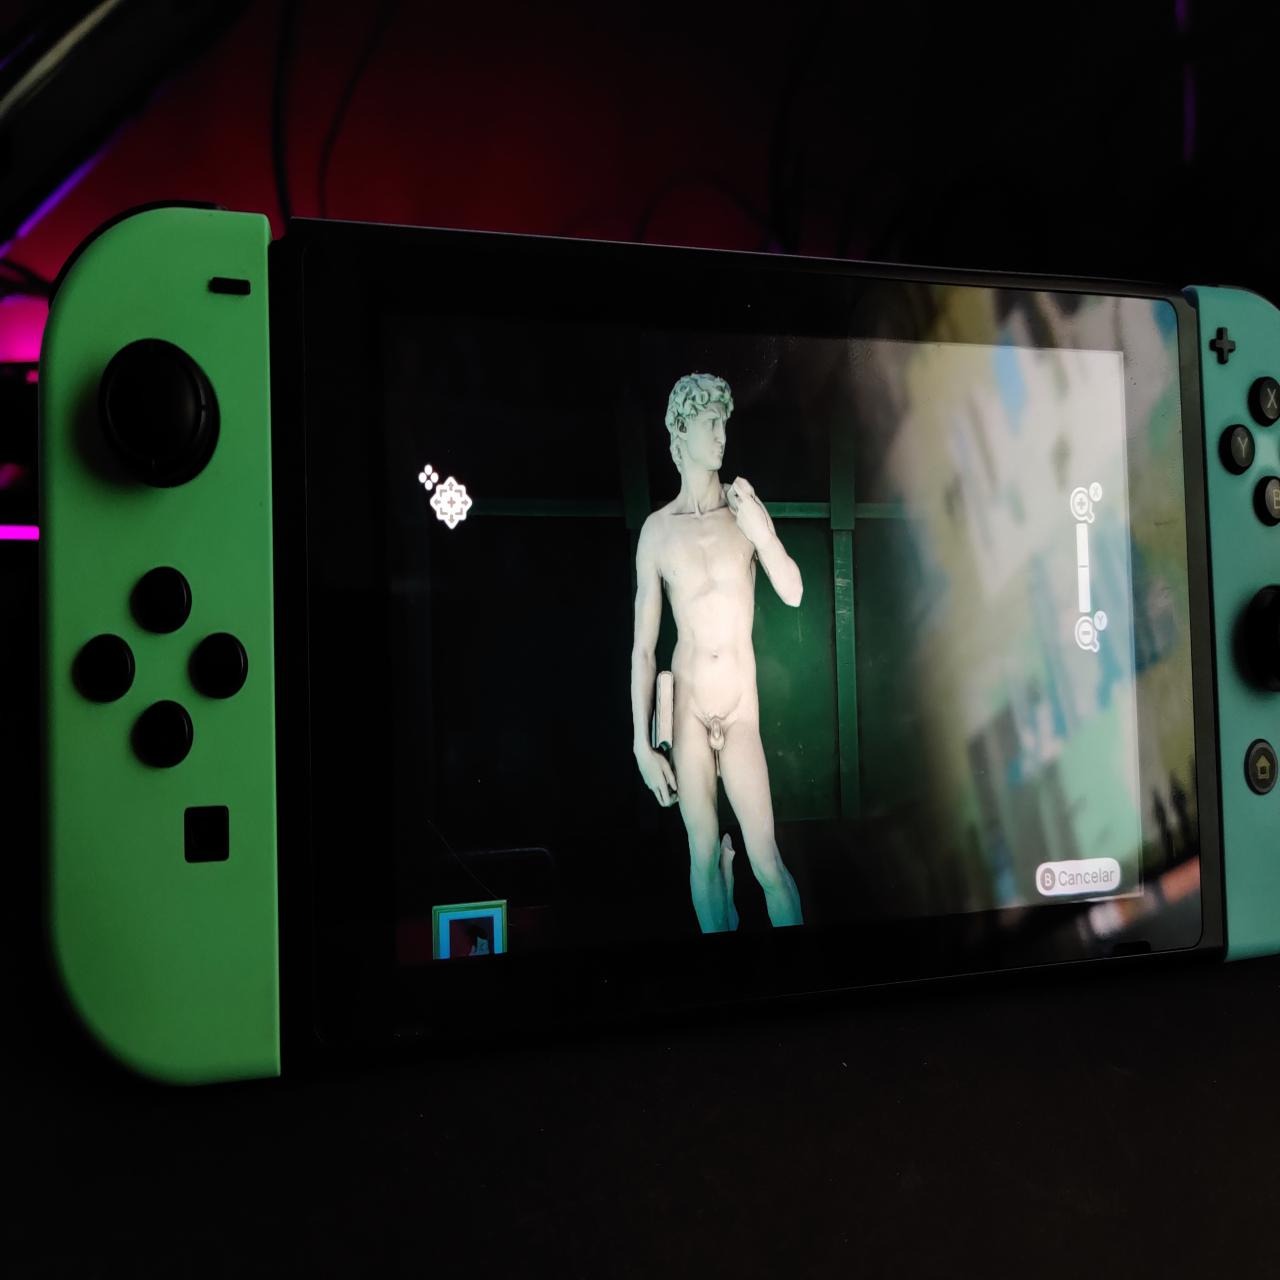DavidFake: (628, 367, 818, 946)
OotaniOnijiFake: (450, 920, 493, 960)
